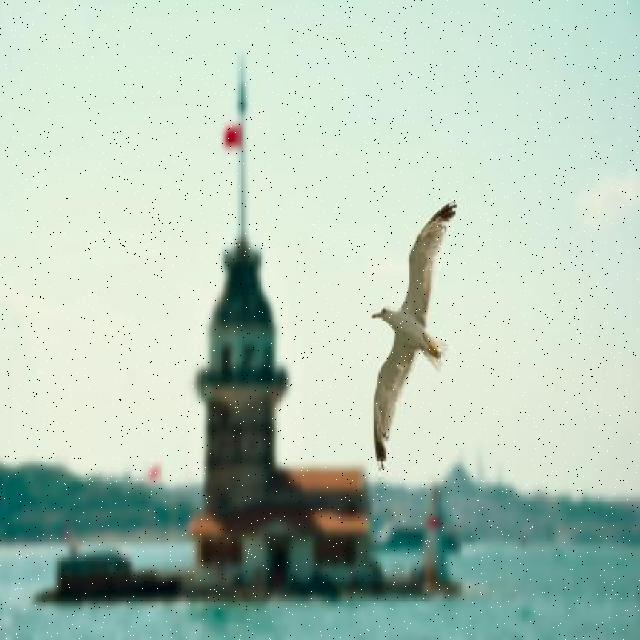bird: (372, 200, 457, 472)
